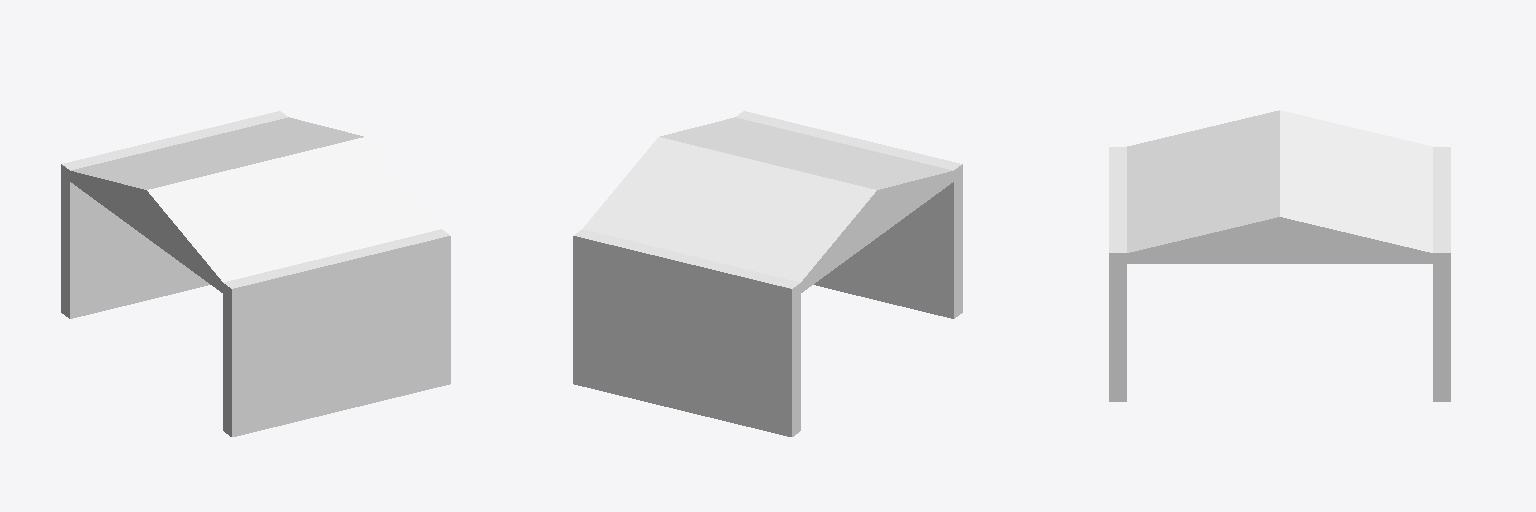
The model's file is BuildingOpenV1.obj.
The picture shows the model from 3 angles: view 1: azimuth 30°, elevation 25°; view 2: azimuth 150°, elevation 25°; view 3: azimuth 270°, elevation 25°; orthographic projection.
Visible parts, largest first — view 1: pCube9; view 2: pCube9; view 3: pCube9.
Part boxes in pixels (x1,y1,x2,y2): pCube9: (61,111,450,436); pCube9: (573,111,962,436); pCube9: (1109,110,1450,401).
Size of the model in its own units: 4.03 by 3.26 by 5.44.